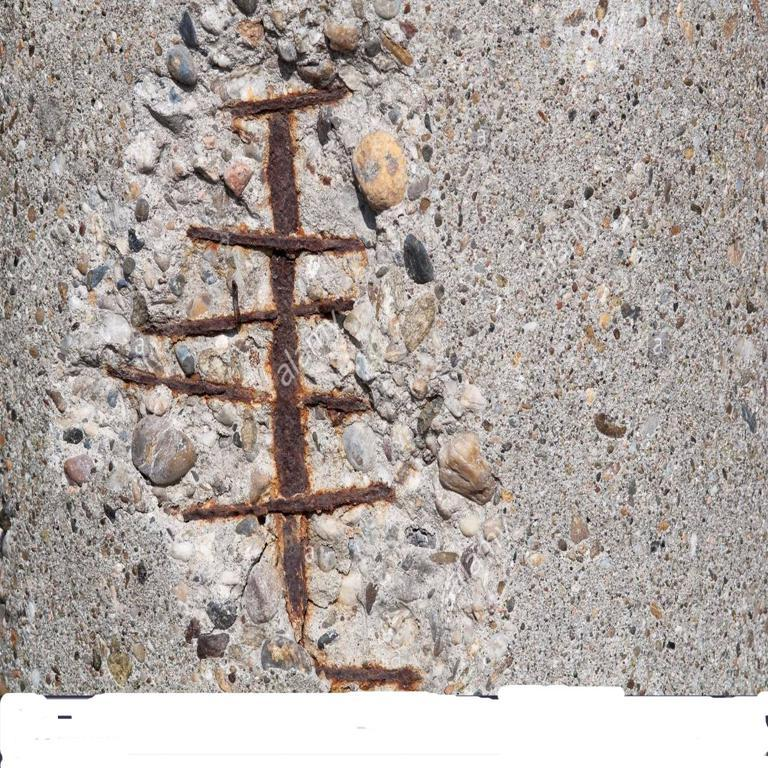exposed_rebar: (108, 87, 393, 623)
spalling: (44, 0, 498, 700)
